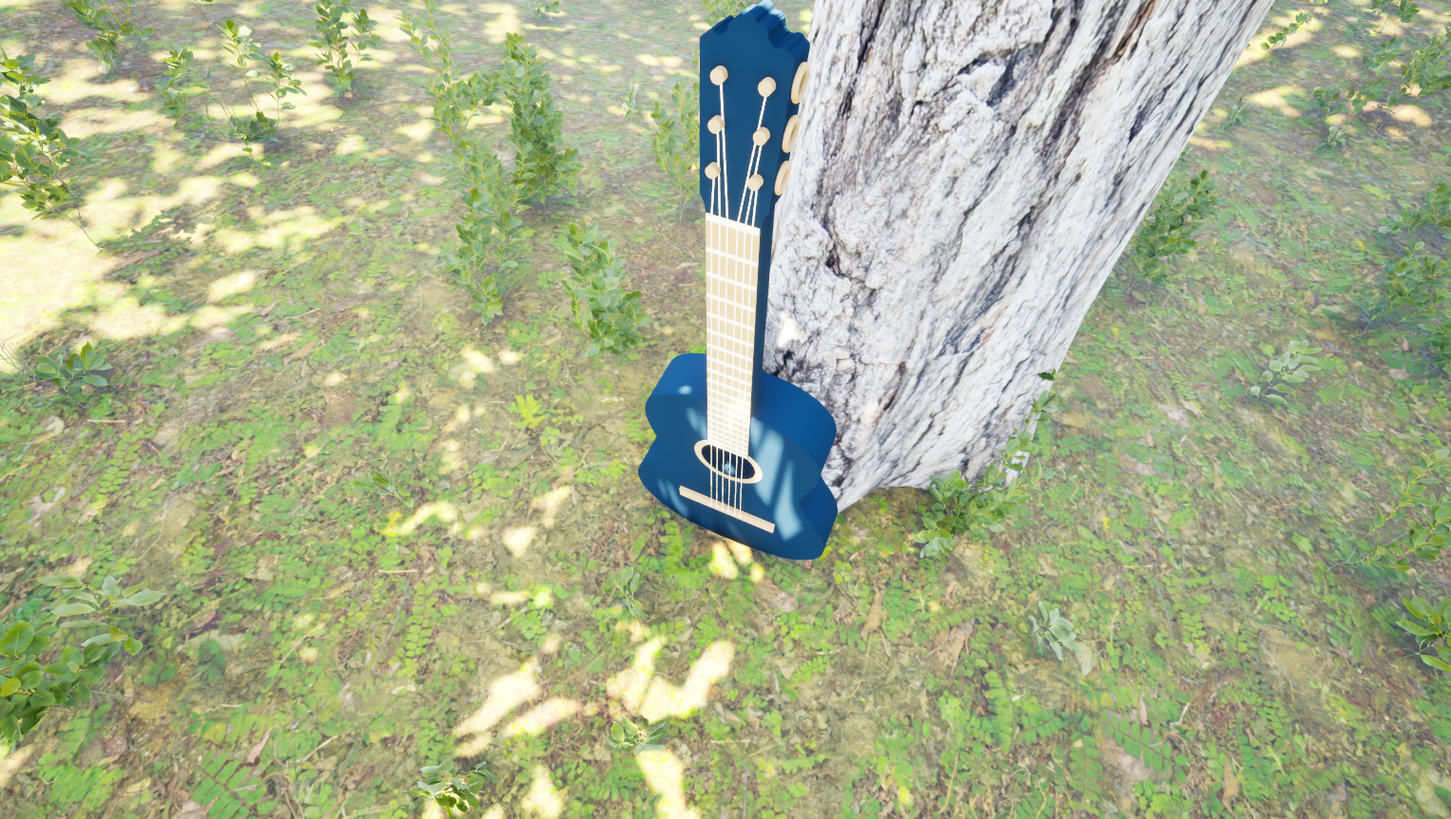Guitar: (496, 0, 1030, 579)
